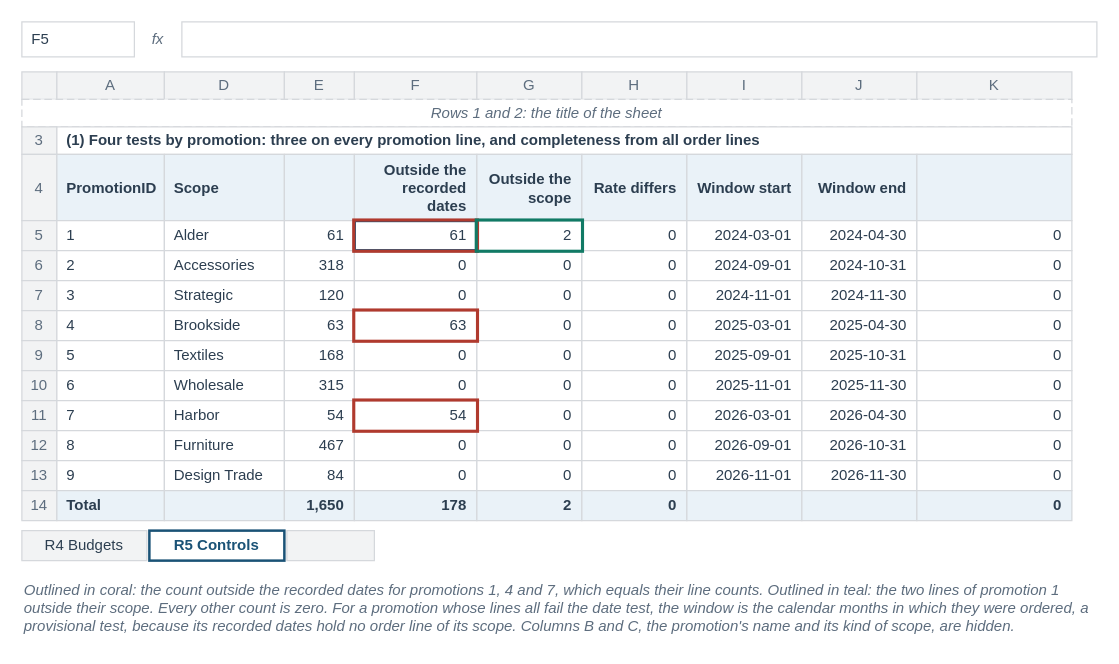
The diagram is 1119 pixels wide and 664 high, and some of its shapes have lost their labels. Each missing label, with the centre of its shape:
"=COUNTIFS(OrderLines[PromotionID],$A5,OrderLines[DateOK],FALSE)" goes at point 639,39.
"In scope and window without the promotion" goes at point 994,187.
"Lines" goes at point 318,187.
"Memo" goes at point 330,545.
